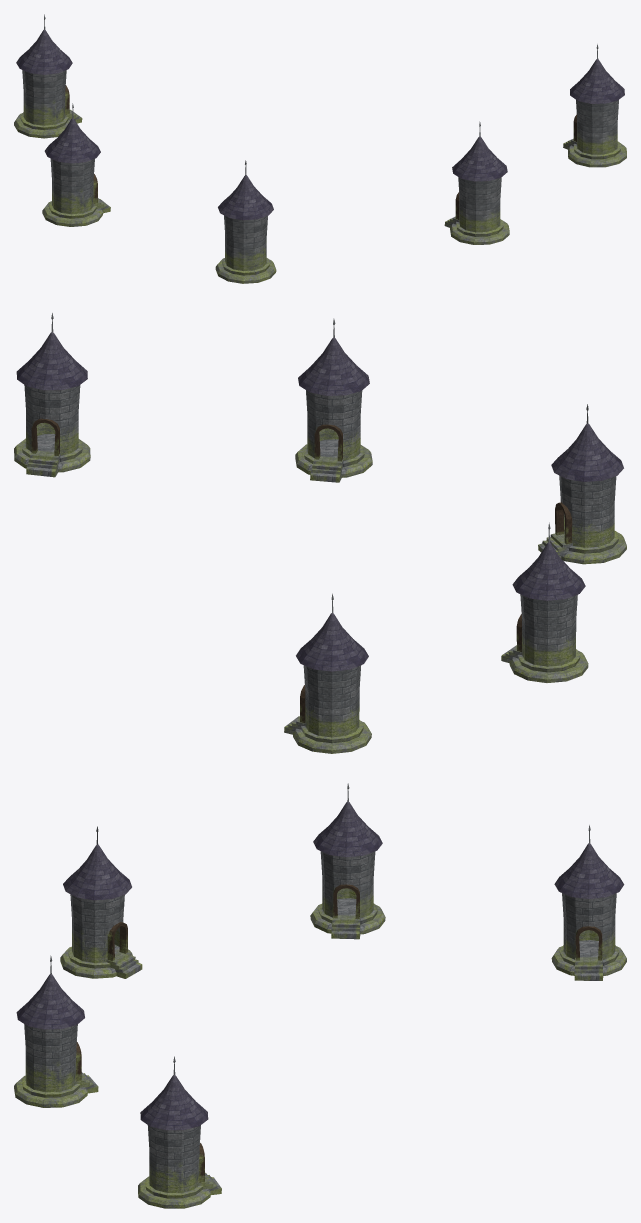
Rendered from MeshBaker (0)-mesh-mesh.fbx.
3 renders of one model, top to bottom at view 1: azimuth 30°, elevation 25°; view 2: azimuth 150°, elevation 25°; view 3: azimuth 270°, elevation 25°, orthographic. The views are drawn at different scales.
Parts seen in each view (by area): view 1: MeshBaker__0__mesh_mesh; view 2: MeshBaker__0__mesh_mesh; view 3: MeshBaker__0__mesh_mesh.
Boxes of the visible parts, x1,y1,x2,y2 form: MeshBaker__0__mesh_mesh: (14, 14, 626, 283); MeshBaker__0__mesh_mesh: (14, 313, 626, 753); MeshBaker__0__mesh_mesh: (14, 783, 626, 1208).
Size of the model in its own units: 5313 by 1119 by 4517.
Materials: 1 (1 with a texture image).
